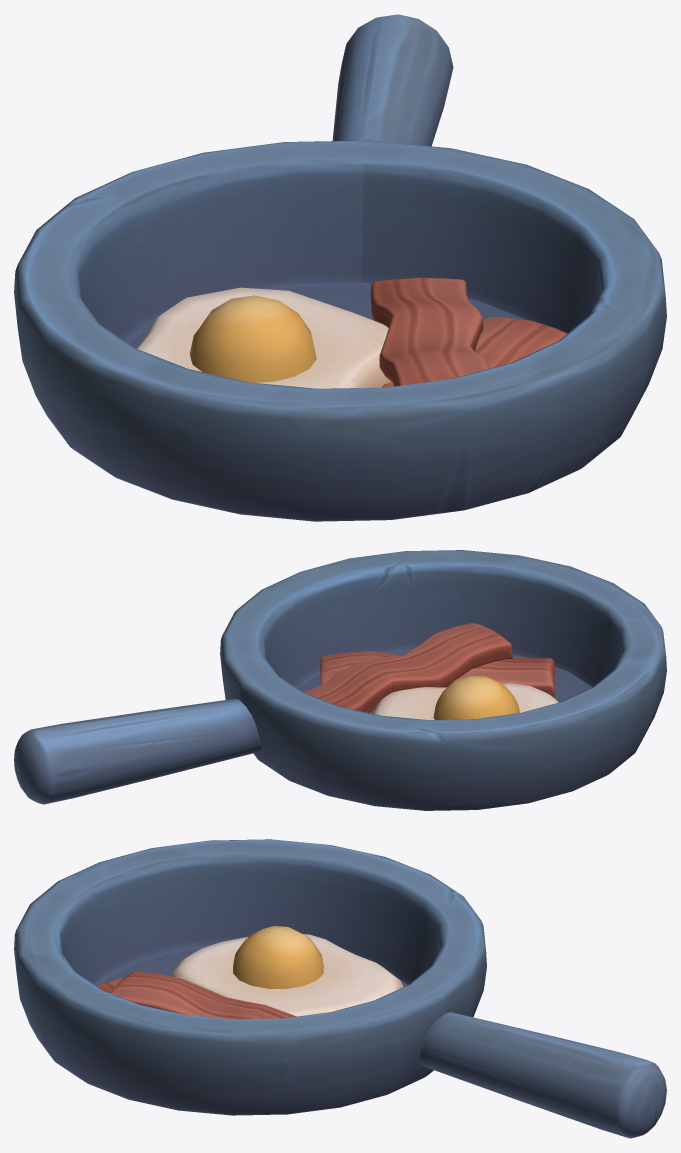
File: Frying_Pan_Egg.fbx
3 views of the same model, one above another, from view 1: azimuth 30°, elevation 25°; view 2: azimuth 150°, elevation 25°; view 3: azimuth 270°, elevation 25° (orthographic). The views are drawn at different scales.
Visible parts, largest first — view 1: Frying_Pan_Egg; view 2: Frying_Pan_Egg; view 3: Frying_Pan_Egg.
Part boxes in pixels (left/top/right/bottom): Frying_Pan_Egg: left=14, top=14, right=666, bottom=521; Frying_Pan_Egg: left=14, top=550, right=666, bottom=810; Frying_Pan_Egg: left=14, top=839, right=666, bottom=1138.
Bounding box in the file's own units: 1.05 × 0.194 × 1.27.
1 material, 1 textured.
